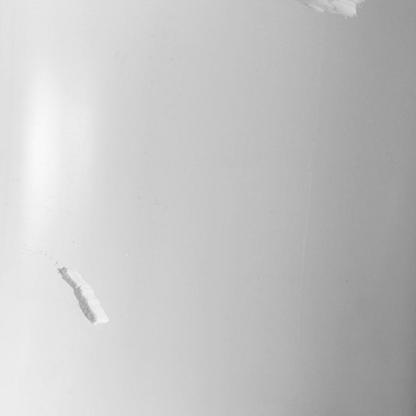sunshang: (54, 265, 111, 325), (303, 1, 361, 21)
